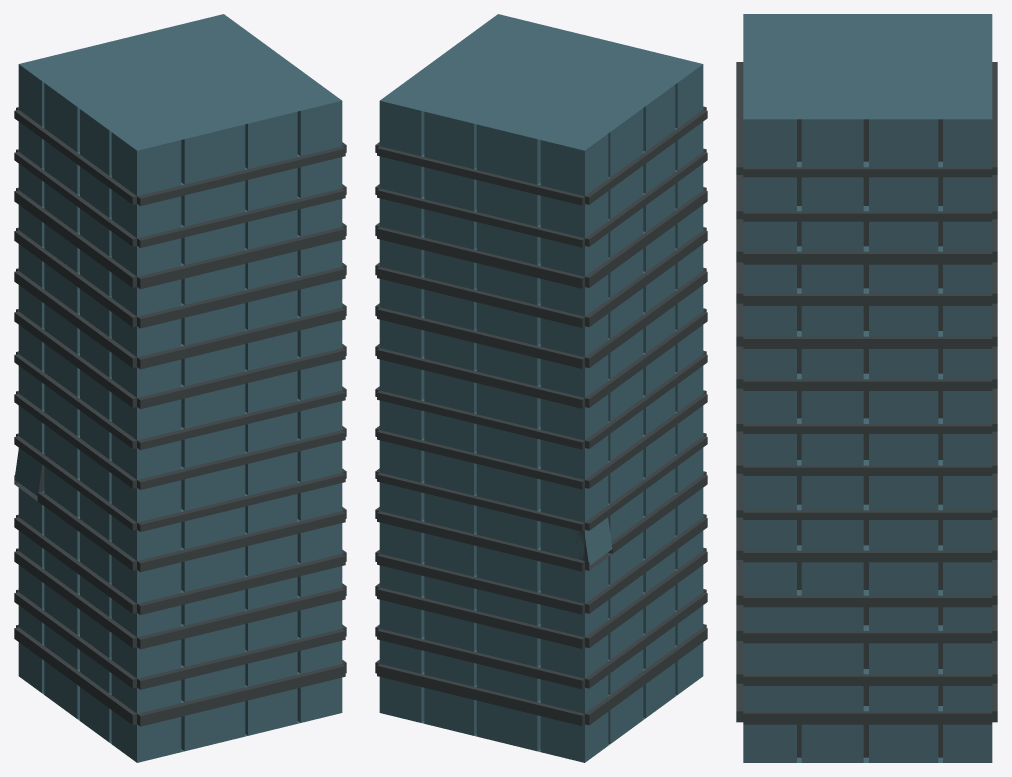
File: bina3.fbx
3 views of the same model, side by side, from view 1: azimuth 30°, elevation 25°; view 2: azimuth 150°, elevation 25°; view 3: azimuth 270°, elevation 25° (orthographic). The views are drawn at different scales.
Parts seen in each view (by area): view 1: pCube1; view 2: pCube1; view 3: pCube1.
Part boxes in pixels (bbox=[...]): pCube1: bbox=[14, 14, 346, 762]; pCube1: bbox=[375, 14, 707, 762]; pCube1: bbox=[736, 14, 997, 762].
Bounding box in the file's own units: 7.65 × 20.92 × 7.7.
